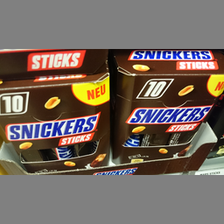chocolate: (115, 52, 221, 158), (1, 78, 113, 173)
